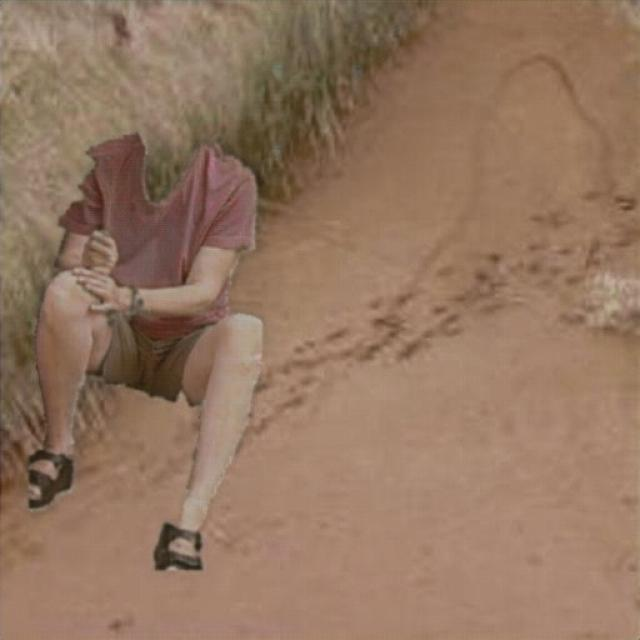Person in Rubble: (28, 132, 262, 568)
